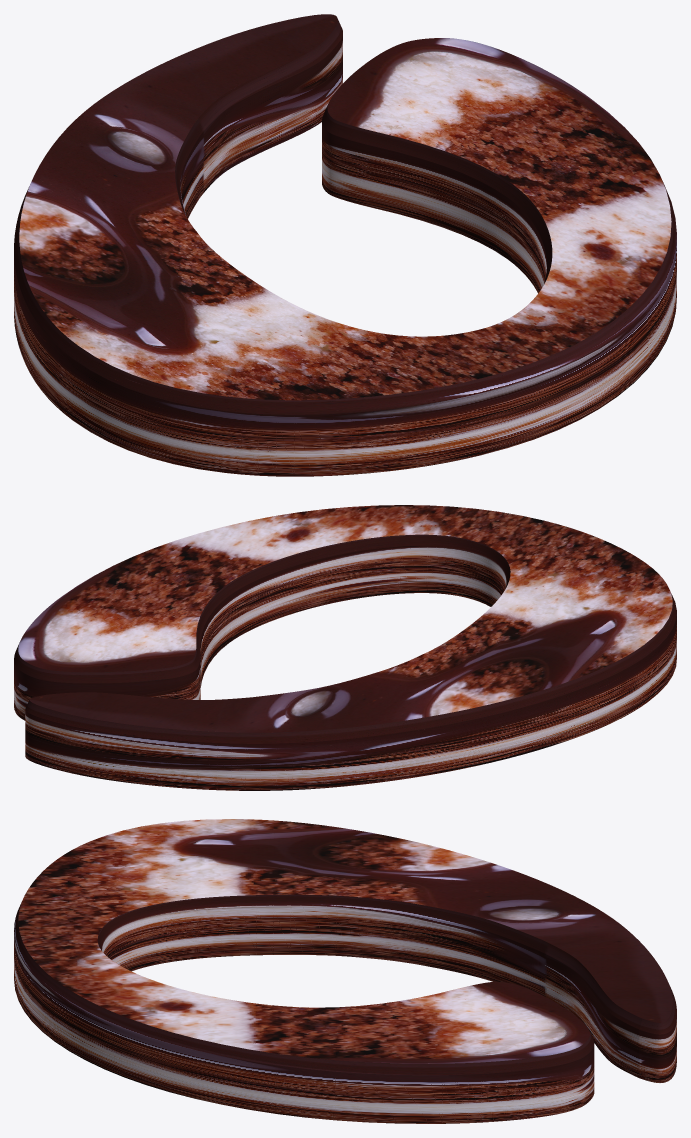
The model's file is myO.FBX.
3 views of the same model, one above another, from view 1: azimuth 30°, elevation 25°; view 2: azimuth 150°, elevation 25°; view 3: azimuth 270°, elevation 25° (orthographic). The views are drawn at different scales.
Parts seen in each view (by area): view 1: myB; view 2: myB; view 3: myB.
Part boxes in pixels (x1,y1,x2,y2): myB: [14, 14, 676, 476]; myB: [14, 505, 676, 790]; myB: [14, 819, 676, 1123].
Size of the model in its own units: 54.8 by 6 by 61.8.
Materials: 1 (1 with a texture image).
